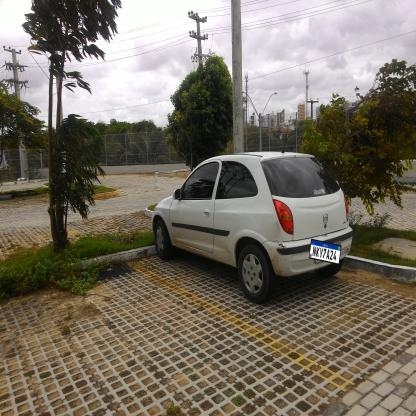PlacaM: (309, 239, 341, 265)
